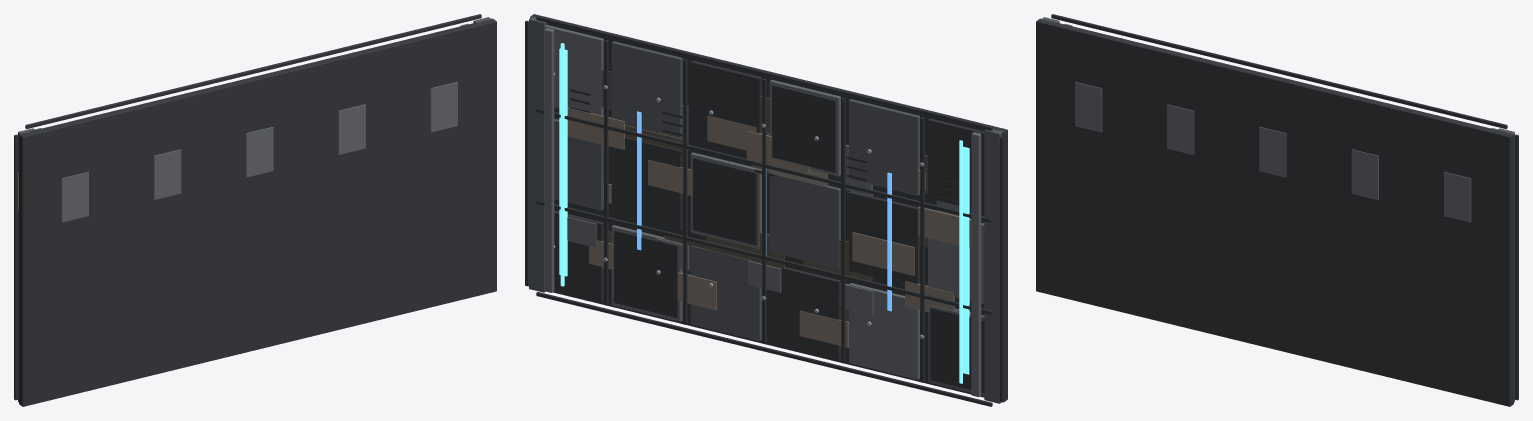
Rendered from deck_plate_seg.glb.
The picture shows the model from 3 angles, left to right: view 1: azimuth 30°, elevation 25°; view 2: azimuth 150°, elevation 25°; view 3: azimuth 330°, elevation 25°; orthographic projection.
Visible parts, largest first — view 1: DeckPlateSeg; view 2: DeckPlateSeg; view 3: DeckPlateSeg.
Boxes of the visible parts, <box> form: DeckPlateSeg: <box>14,14,496,406</box>; DeckPlateSeg: <box>525,14,1007,406</box>; DeckPlateSeg: <box>1036,14,1518,406</box>.
Size of the model in its own units: 7.25 by 4.05 by 0.26.
